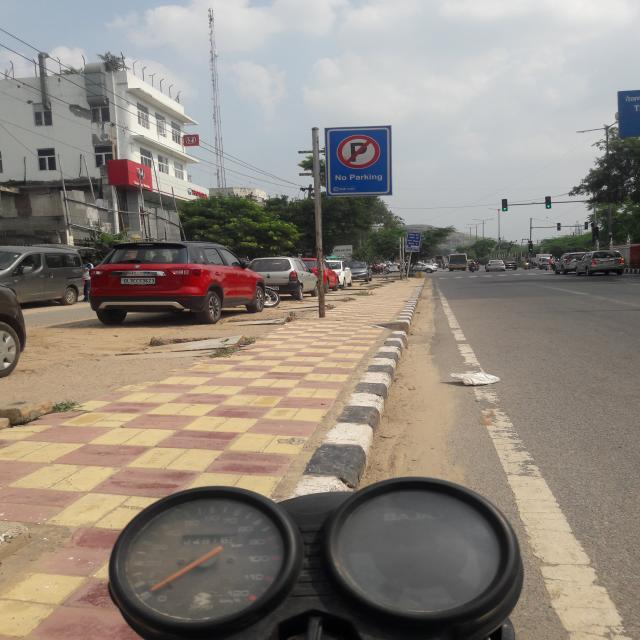no parking: (329, 131, 387, 183)
